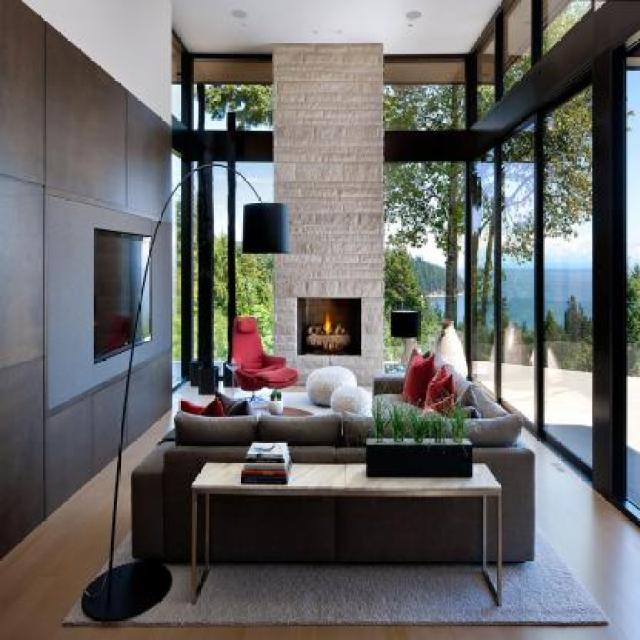floor: (0, 405, 640, 640)
